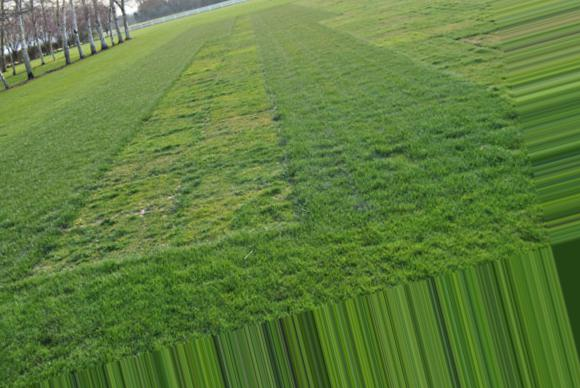patch: (468, 31, 489, 47)
